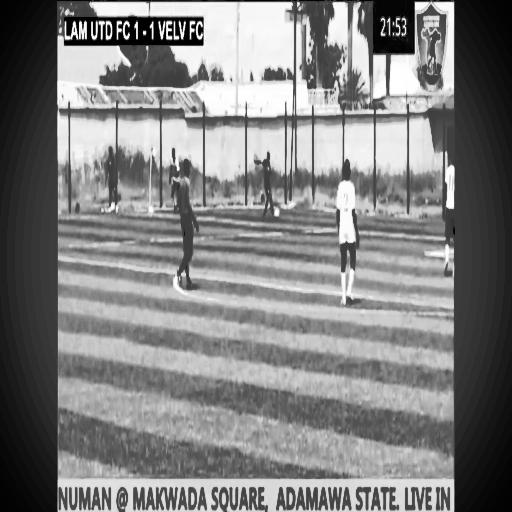ball: (148, 204, 155, 218)
team2: (334, 145, 360, 314), (166, 141, 180, 216)
